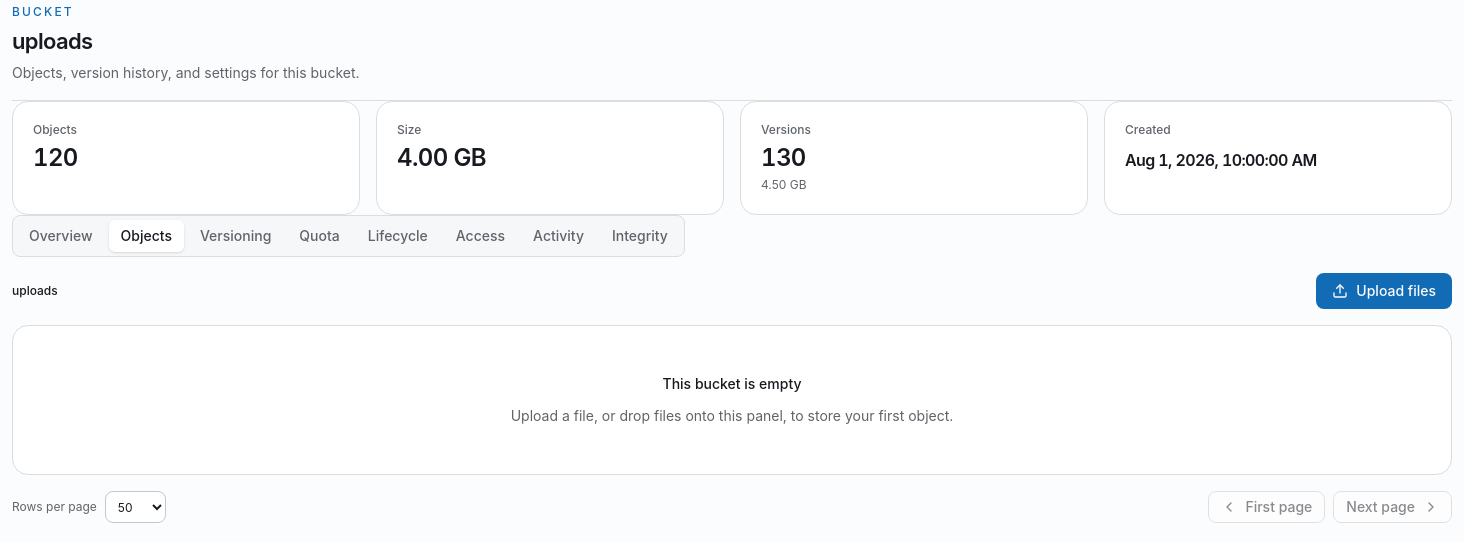
Test case: BucketDetail tabs › lists only the policies that can reach this bucket
The width and height of the screenshot is (1464, 542).
Click the tab "Access": {"x": 480, "y": 236} top-left (444, 220), bottom-right (517, 252)
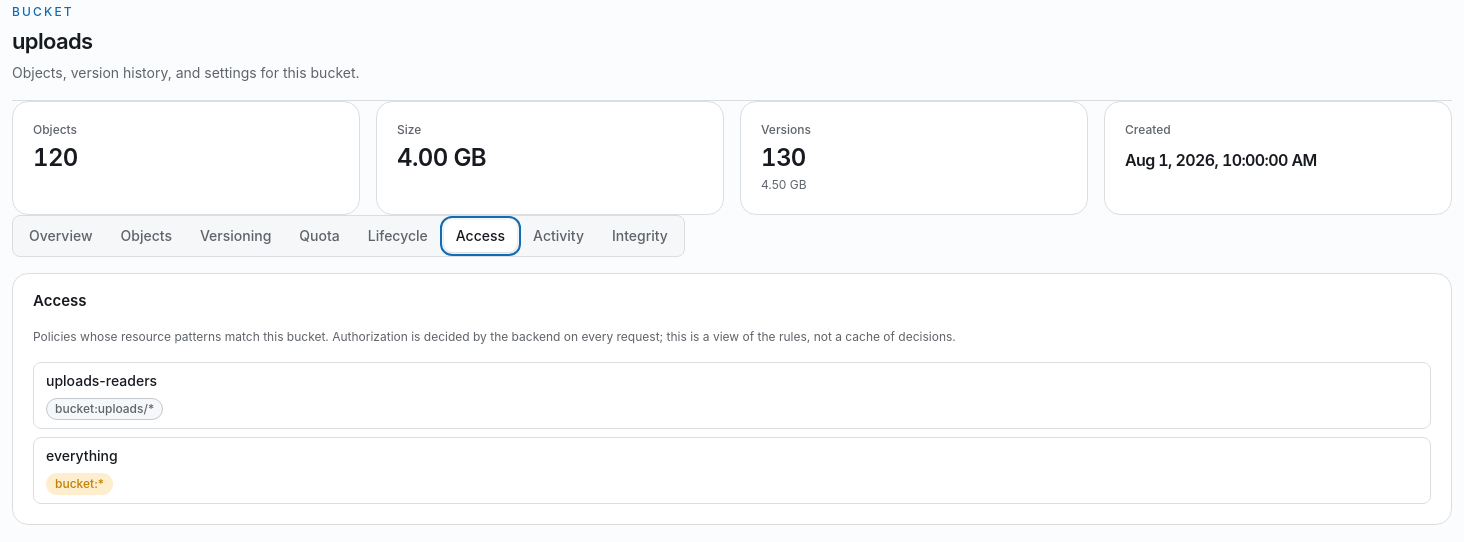
Check: the text "uploads-readers" is shown, box top-left (46, 372), bottom-right (157, 389)
Check: the text "everything" is shown, box top-left (46, 447), bottom-right (118, 464)
